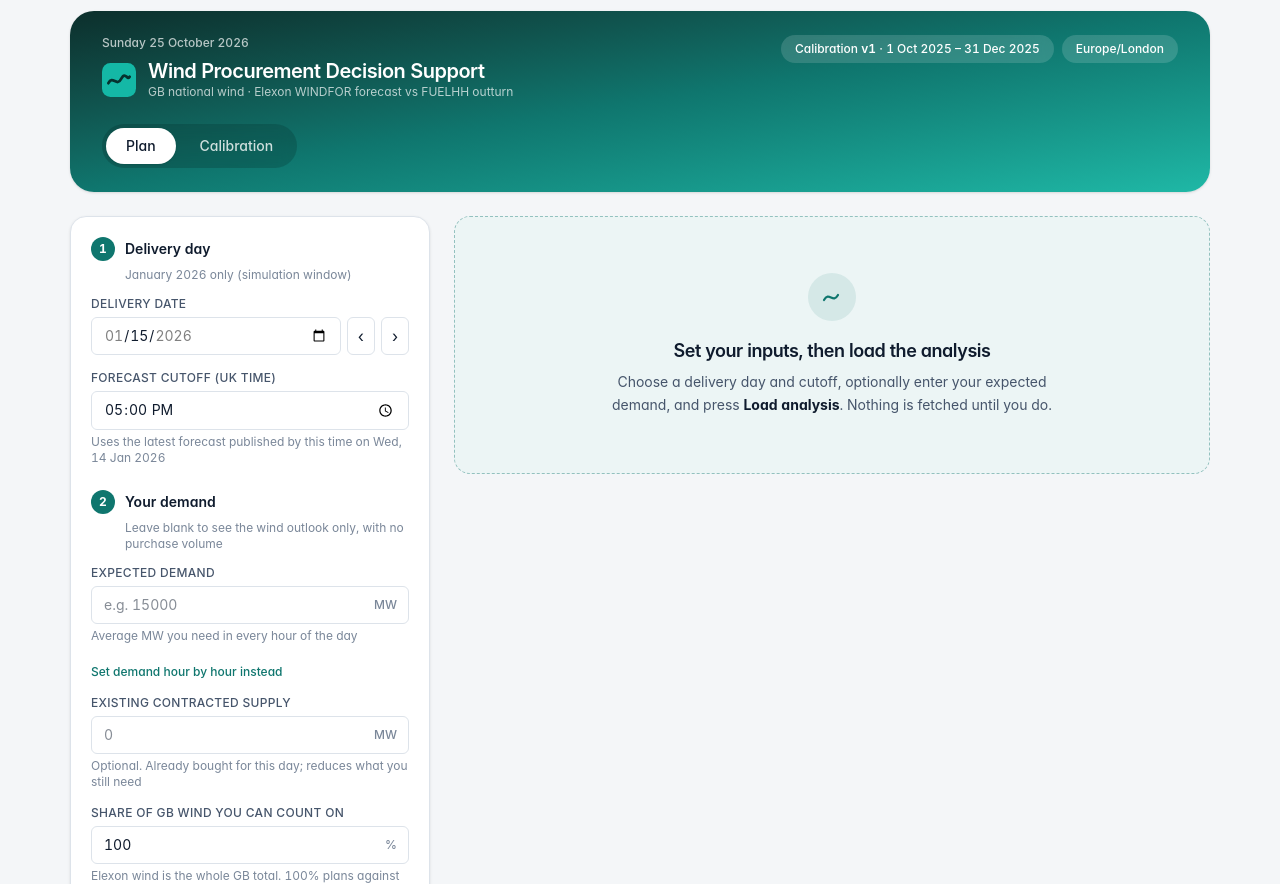
Test: Decision dashboard › validates the delivery date window and blocks submission
This screenshot has width=1280, height=884.
Type "2026-02-03" into the date field labelled "Delivery date".
click(216, 336); type("2026-02-03")  # box x1=91 y1=317 x2=341 y2=355
(page scrolled)
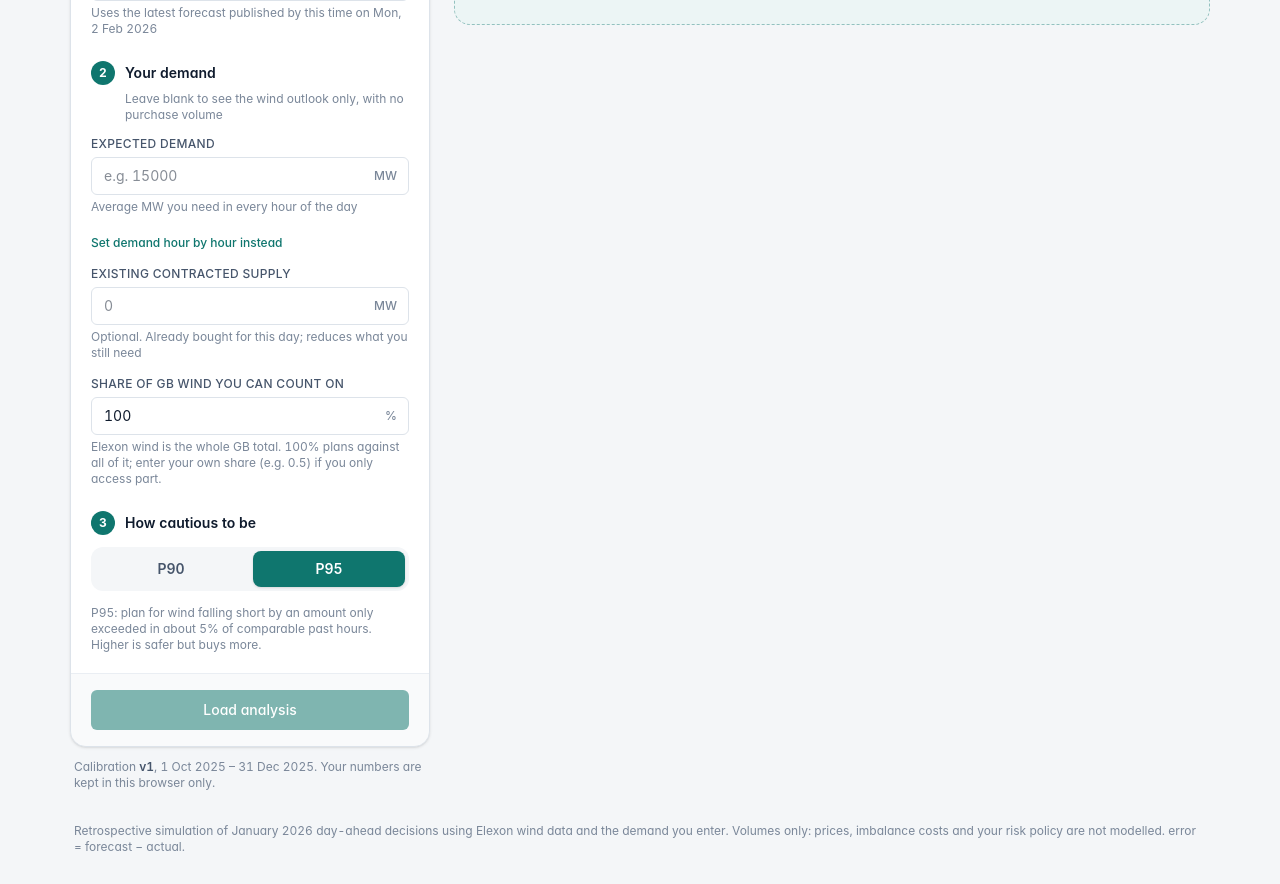
Check: the button "Load analysis" is disabled, box x1=91 y1=690 x2=409 y2=730
